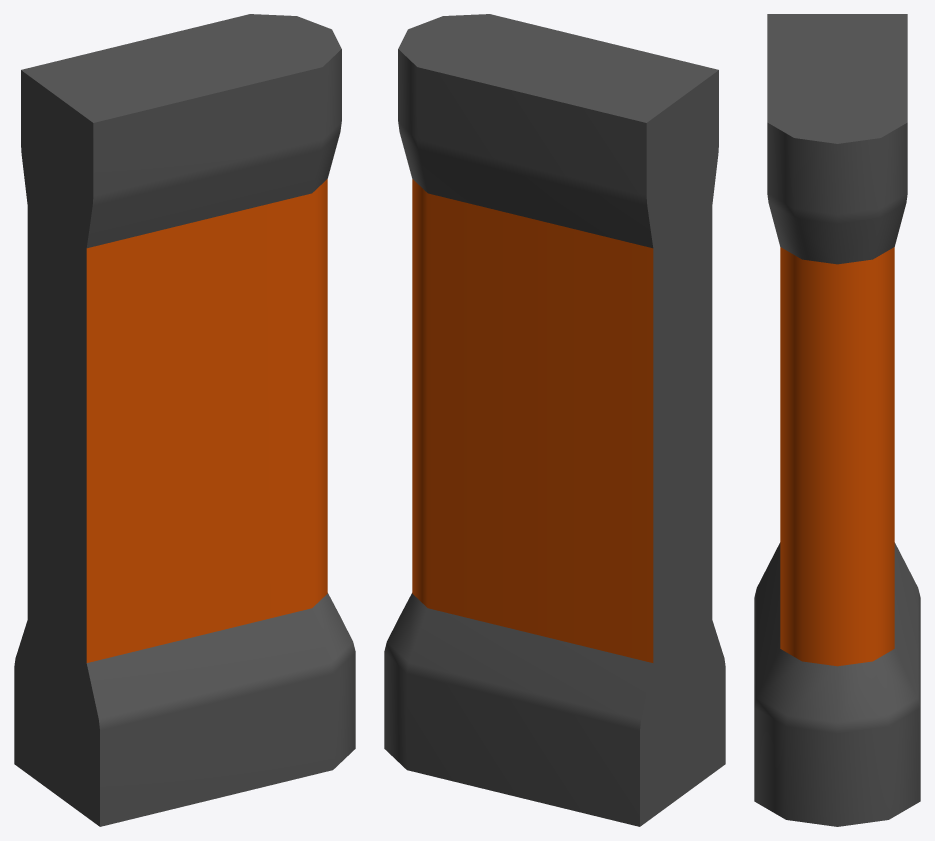
File: env_ruin_pillar_05.fbx
The picture shows the model from 3 angles, left to right: view 1: azimuth 30°, elevation 25°; view 2: azimuth 150°, elevation 25°; view 3: azimuth 270°, elevation 25°; orthographic projection. The views are drawn at different scales.
Parts seen in each view (by area): view 1: env_ruin_pillar_05_lod0.003; view 2: env_ruin_pillar_05_lod0.003; view 3: env_ruin_pillar_05_lod0.003.
Boxes of the visible parts, x1=… form: env_ruin_pillar_05_lod0.003: x1=14, y1=14, x2=355, y2=826; env_ruin_pillar_05_lod0.003: x1=384, y1=14, x2=725, y2=826; env_ruin_pillar_05_lod0.003: x1=754, y1=14, x2=920, y2=826.
Bounding box in the file's own units: 12.25 × 28.5 × 6.35.
